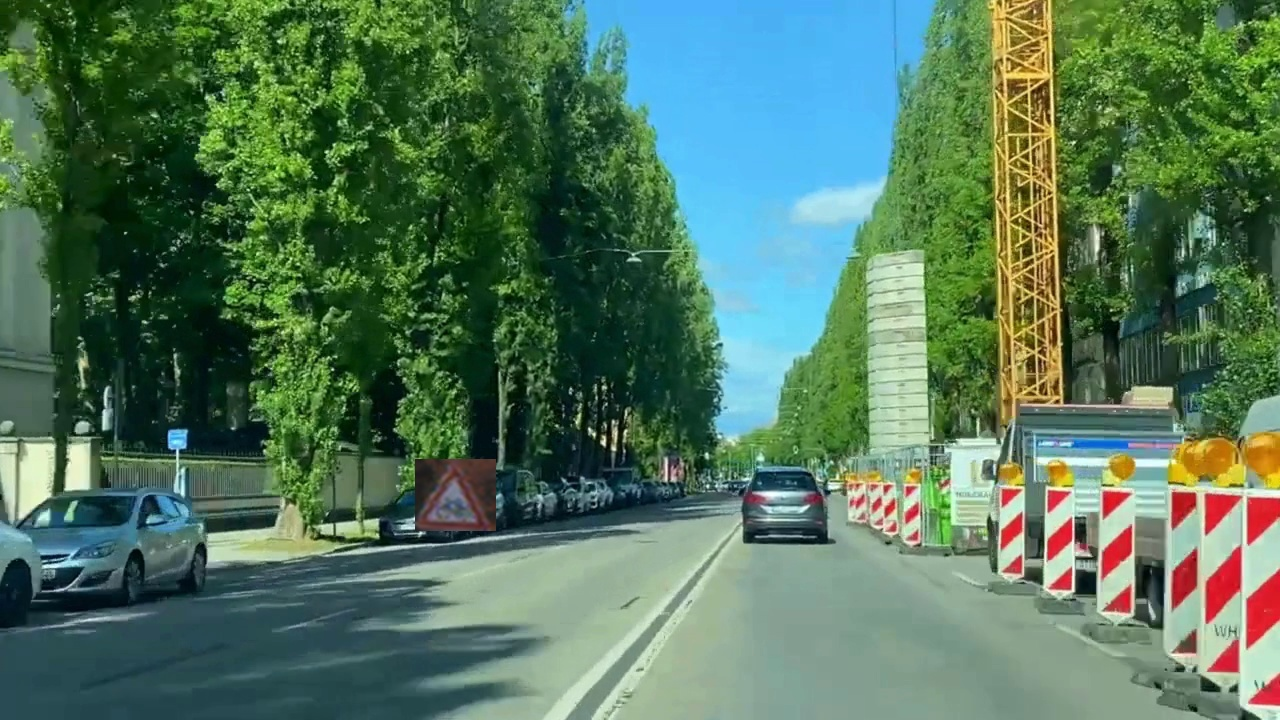Bicycles: (415, 459, 496, 531)
